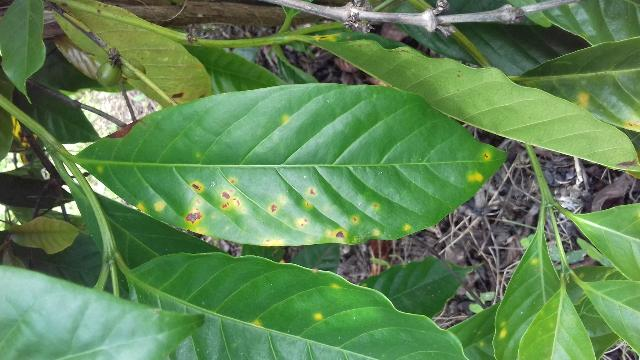rust_level_2: (75, 78, 511, 251)
